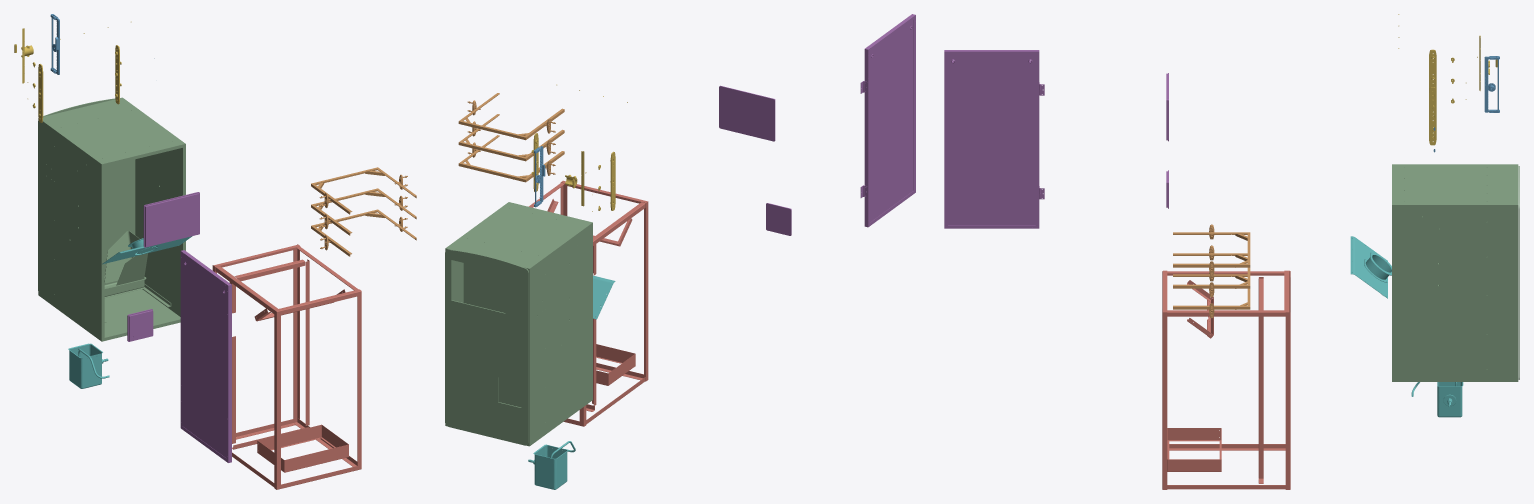
The model's file is conjunto-despiece.glb.
3 renders of one model, left to right at view 1: azimuth 30°, elevation 25°; view 2: azimuth 150°, elevation 25°; view 3: azimuth 270°, elevation 25°, orthographic.
Parts seen in each view (by area): view 1: contrafondo, puerta, cajon, bandejas, electrica, rotacion, transmision; view 2: contrafondo, puerta, cajon, bandejas, electrica, rotacion; view 3: contrafondo, puerta, cajon, bandejas, electrica, rotacion.
Boxes of the visible parts, box(x1,y1,x2,y2) form: contrafondo: box(38, 97, 185, 341); puerta: box(127, 192, 231, 462); cajon: box(212, 244, 361, 489); bandejas: box(311, 167, 416, 256); electrica: box(68, 236, 192, 388); rotacion: box(14, 21, 131, 122); transmision: box(50, 14, 154, 74); contrafondo: box(445, 202, 592, 446); puerta: box(719, 14, 915, 235); cajon: box(529, 180, 648, 426); bandejas: box(458, 93, 564, 182); electrica: box(528, 275, 615, 489); rotacion: box(531, 84, 627, 211); contrafondo: box(1392, 164, 1519, 381); puerta: box(944, 50, 1168, 228); cajon: box(1162, 270, 1290, 489); bandejas: box(1173, 224, 1250, 318); electrica: box(1350, 236, 1463, 417); rotacion: box(1398, 14, 1497, 145).
Size of the model in its own units: 1869 by 2210 by 2978.
